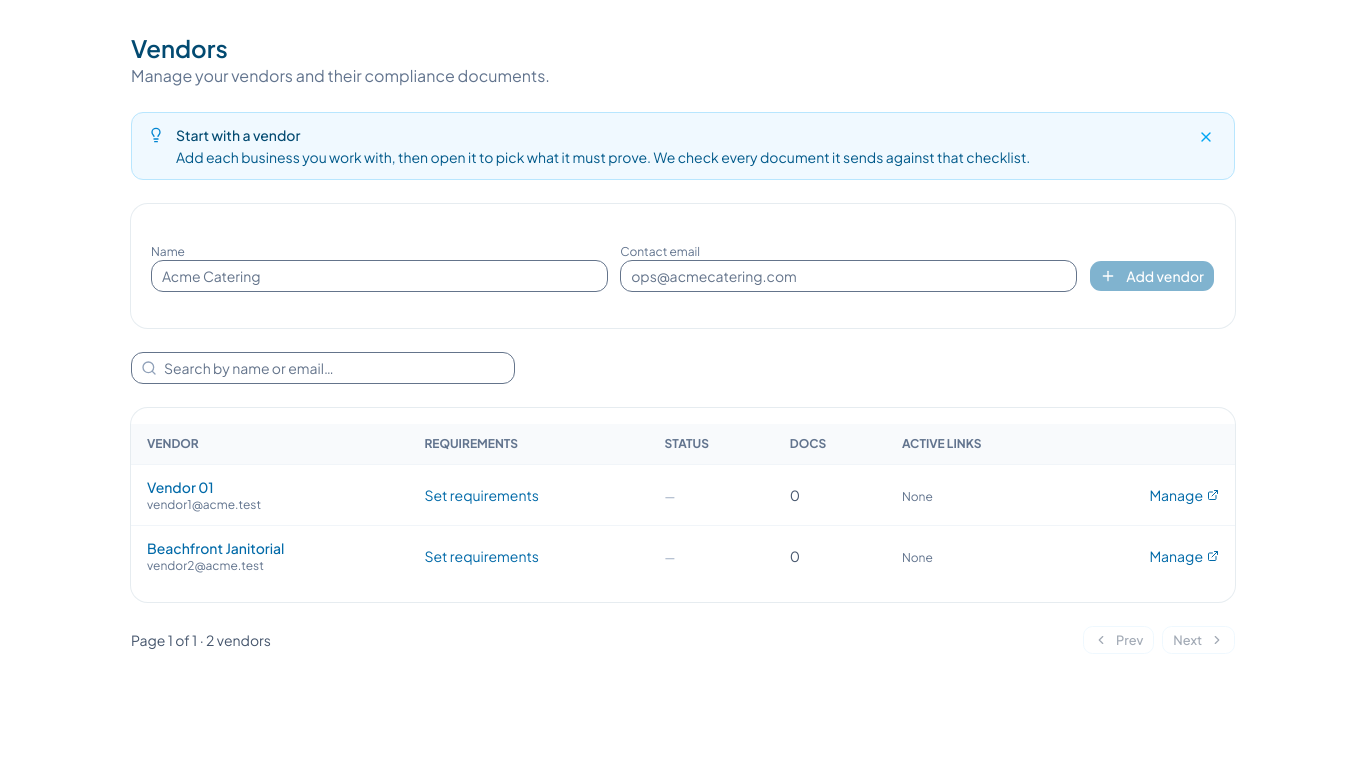
Test: VendorsPage — client-side search + pagination (#187) › search narrows the list by name and shows a no-match state
expect the link "Vendor 01" is shown: met, box [147,477,214,497]
Type "beachfront" into the field named "search vendors". click: {"x": 323, "y": 368}
box: [131,352,515,384]
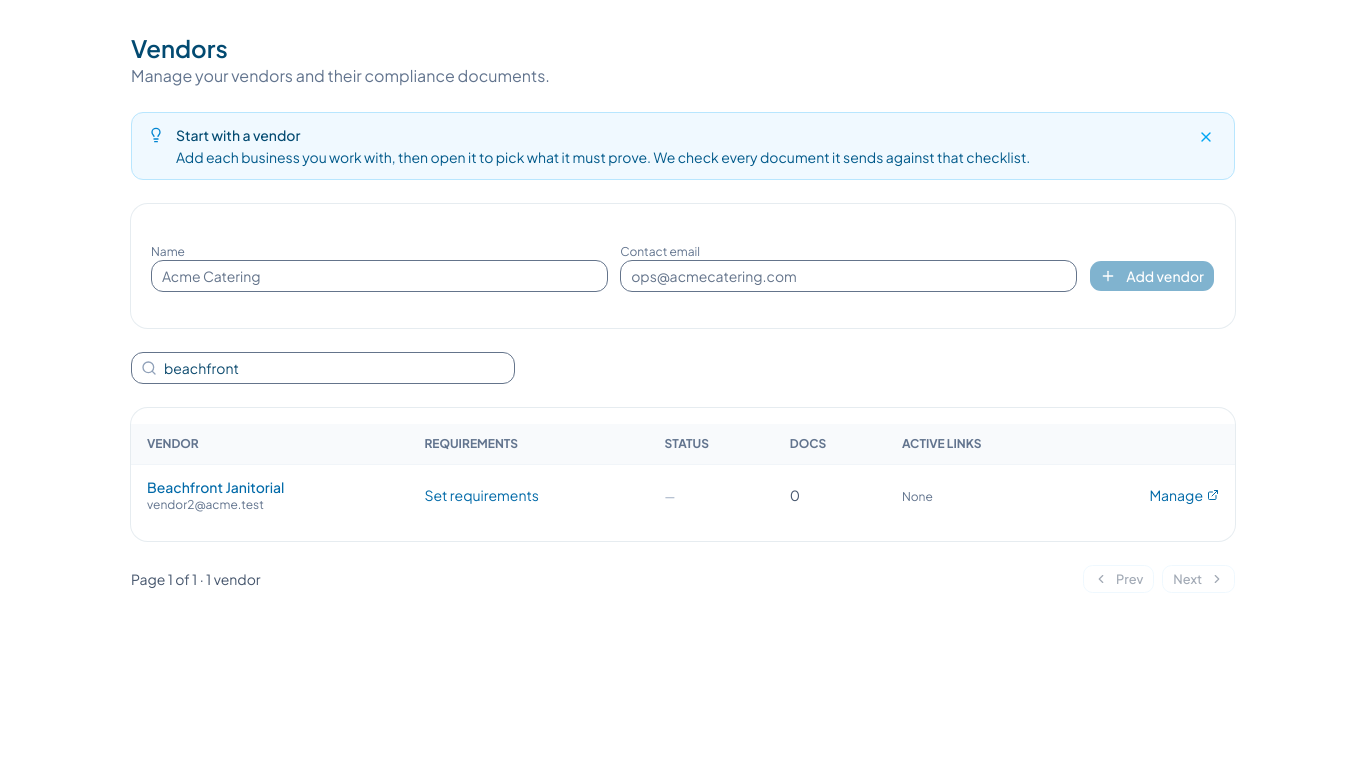
expect the link "Beachfront Janitorial" is shown: met, box [147,477,284,497]
expect the link "Vendor 01" is gone: met
Replace the text in the field named "search vendors" with "zzz-nomatch". click: {"x": 323, "y": 368}
box: [131,352,515,384]
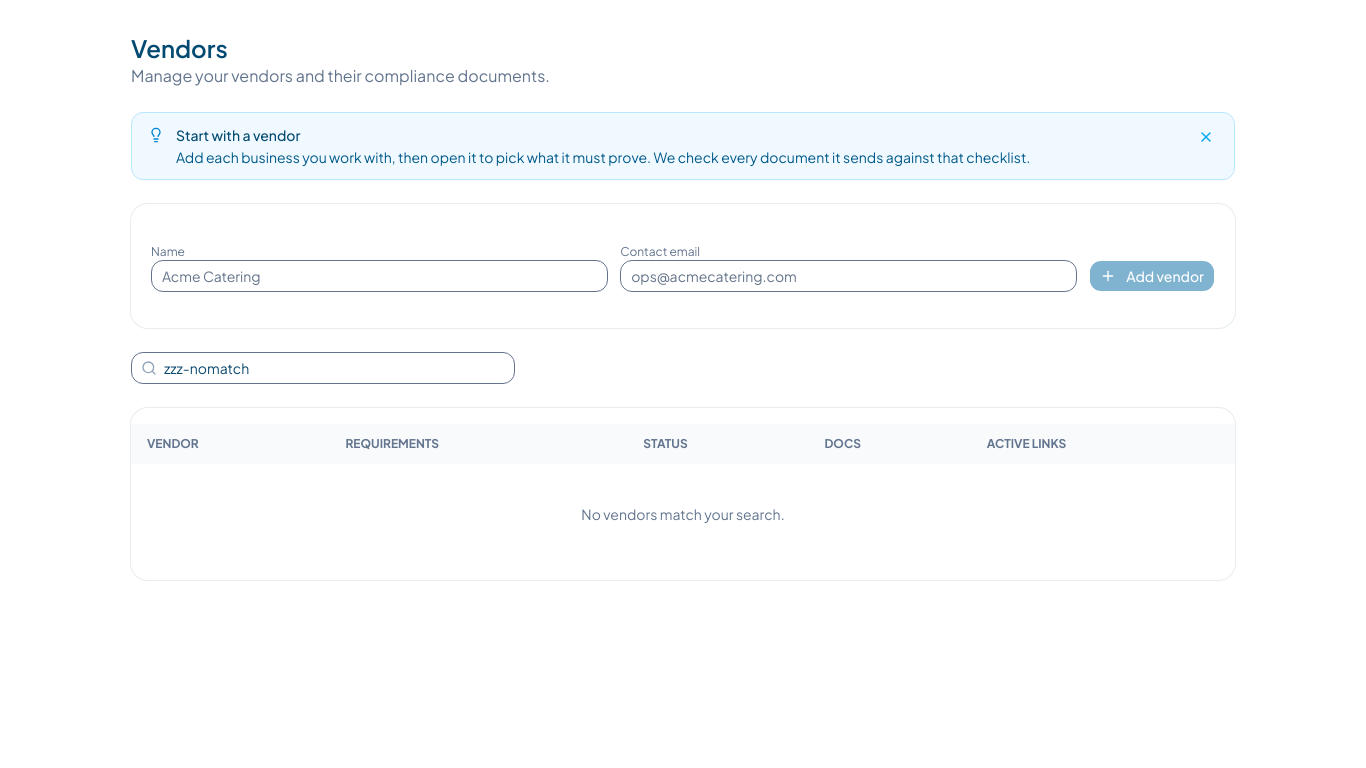
expect the text "No vendors match your search." is shown: met, box [131,464,1235,564]
